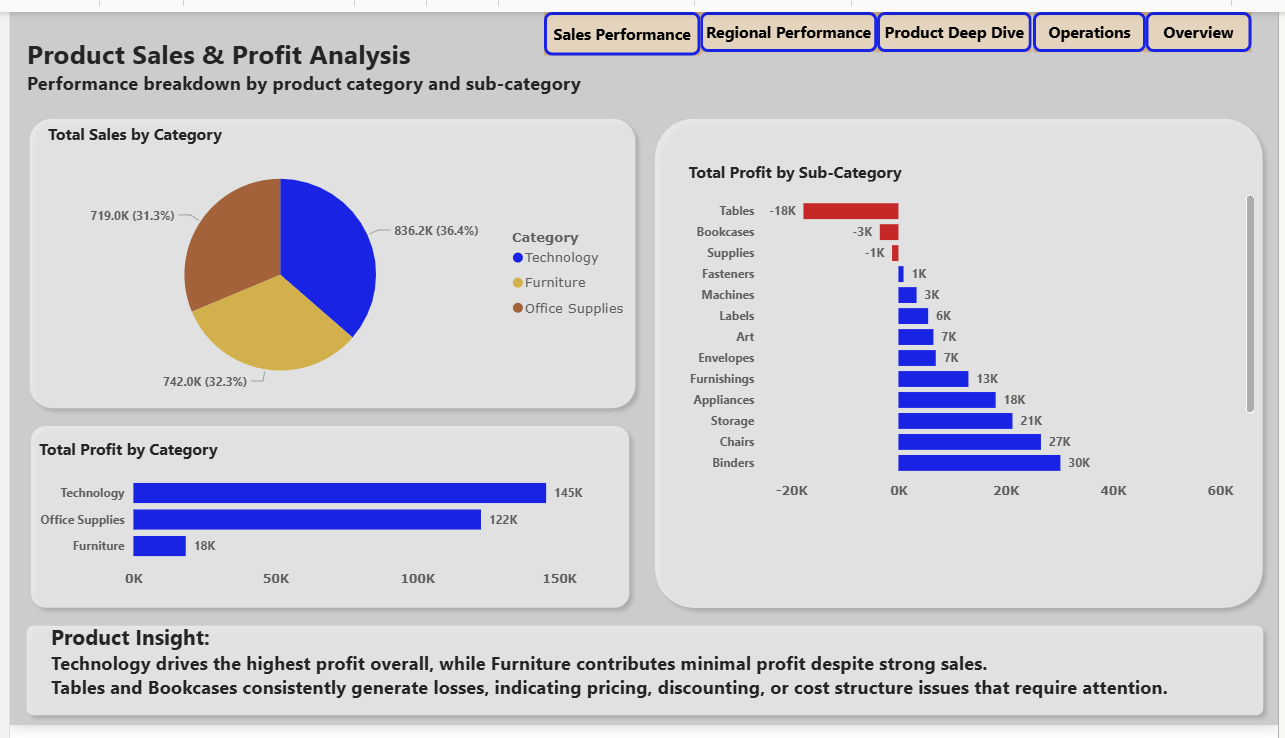

Layout of this report page (visuals, bound fields, positions):
{"tool":"powerbi","page":{"name":"Page 3","canvas":[1280,720],"ordinal":2},"visuals":[{"type":"actionButton","box":[875.4,0,156.1,40.4],"z":0,"group":"g8"},{"type":"textbox","box":[12.3,17.5,628.1,80.7],"z":0},{"type":"shape","box":[10.5,98.2,629.8,310.5],"z":0,"group":"g2"},{"type":"shape","box":[642.1,98.2,631.6,512.3],"z":0,"group":"g3"},{"type":"shape","box":[12.3,408.8,622.1,201.5],"z":0,"group":"g5"},{"type":"group","id":"g1","title":"Group 7","box":[7,610.5,1266.7,108.8],"z":0,"group":"g7"},{"type":"shape","box":[7,610.5,1266.7,108.8],"z":0,"group":"g1"},{"type":"actionButton","box":[696.5,0,178.9,40.4],"z":1000,"group":"g8"},{"type":"textbox","box":[0,79.7,264.1,43.8],"z":1000},{"type":"actionButton","box":[538.6,0,157.9,43.9],"z":2000,"group":"g8"},{"type":"group","id":"g2","title":"Group 7","box":[10.5,98.2,629.8,310.5],"z":2000,"group":"g4"},{"type":"group","id":"g3","title":"Group 7","box":[642.1,98.2,631.6,512.3],"z":2000},{"type":"actionButton","box":[1145.6,0,107,40.4],"z":3000,"group":"g8"},{"type":"pieChart","fields":{"Category":["DimProduct.Category"],"Y":["_Measures.Total Sales"]},"box":[33.1,112.5,600.4,284.2],"z":3000,"group":"g4"},{"type":"clusteredBarChart","fields":{"Category":["DimProduct.Sub-Category"],"Y":["_Measures.Total Profit"]},"box":[679.5,149.2,580.9,350.4],"z":3000},{"type":"group","id":"g4","title":"Group 1","box":[10.5,98.2,622.8,310.5],"z":4000},{"type":"group","id":"g5","title":"Group 7","box":[12.3,408.8,622.1,201.5],"z":4000,"group":"g6"},{"type":"group","id":"g6","title":"Group 2","box":[12.3,408.8,621.1,201.8],"z":5000},{"type":"clusteredBarChart","fields":{"Category":["DimProduct.Category"],"Y":["_Measures.Total Profit"]},"box":[23.7,430.4,596.1,158.7],"z":5000,"group":"g6"},{"type":"group","id":"g7","title":"Group 3","box":[7,610.5,1266.7,108.8],"z":6000},{"type":"actionButton","box":[1031.6,0,114,40.4],"z":6500,"group":"g8"},{"type":"group","id":"g8","title":"Nav_button","box":[538.6,0,714,43.9],"z":7000},{"type":"textbox","box":[35.1,610.5,1210.5,94.7],"z":8000,"group":"g7"}]}

Visuals, with their boxes in screenshot pixels (x1, y1, x2, y2), scaled from the page's 1280x720 canvas onto the 1285x738 screenshot:
actionButton: pyautogui.locateOnScreen(879, 0, 1036, 41)
textbox: pyautogui.locateOnScreen(12, 18, 643, 101)
shape: pyautogui.locateOnScreen(11, 101, 643, 419)
shape: pyautogui.locateOnScreen(645, 101, 1279, 626)
shape: pyautogui.locateOnScreen(12, 419, 637, 626)
"Group 7" group: pyautogui.locateOnScreen(7, 626, 1279, 737)
shape: pyautogui.locateOnScreen(7, 626, 1279, 737)
actionButton: pyautogui.locateOnScreen(699, 0, 879, 41)
textbox: pyautogui.locateOnScreen(0, 82, 265, 127)
actionButton: pyautogui.locateOnScreen(541, 0, 699, 45)
"Group 7" group: pyautogui.locateOnScreen(11, 101, 643, 419)
"Group 7" group: pyautogui.locateOnScreen(645, 101, 1279, 626)
actionButton: pyautogui.locateOnScreen(1150, 0, 1257, 41)
pieChart - DimProduct.Category x _Measures.Total Sales: pyautogui.locateOnScreen(33, 115, 636, 407)
clusteredBarChart - DimProduct.Sub-Category x _Measures.Total Profit: pyautogui.locateOnScreen(682, 153, 1265, 512)
"Group 1" group: pyautogui.locateOnScreen(11, 101, 636, 419)
"Group 7" group: pyautogui.locateOnScreen(12, 419, 637, 626)
"Group 2" group: pyautogui.locateOnScreen(12, 419, 636, 626)
clusteredBarChart - DimProduct.Category x _Measures.Total Profit: pyautogui.locateOnScreen(24, 441, 622, 604)
"Group 3" group: pyautogui.locateOnScreen(7, 626, 1279, 737)
actionButton: pyautogui.locateOnScreen(1036, 0, 1150, 41)
"Nav_button" group: pyautogui.locateOnScreen(541, 0, 1257, 45)
textbox: pyautogui.locateOnScreen(35, 626, 1250, 723)
